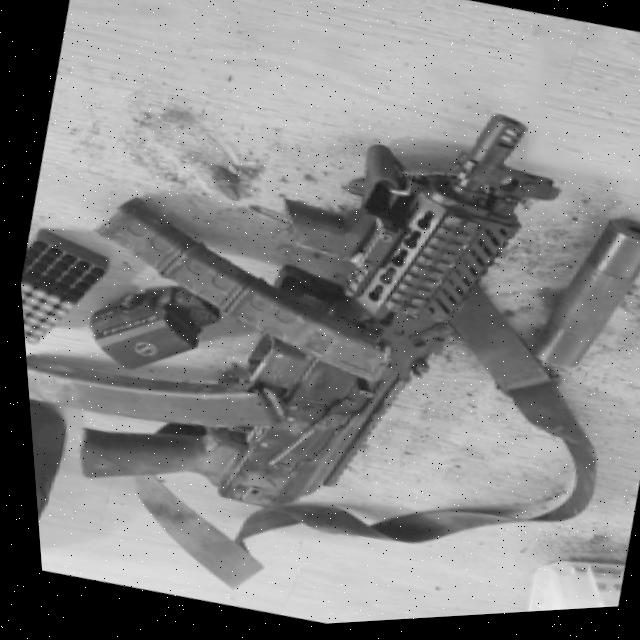firearm: (41, 28, 593, 577)
